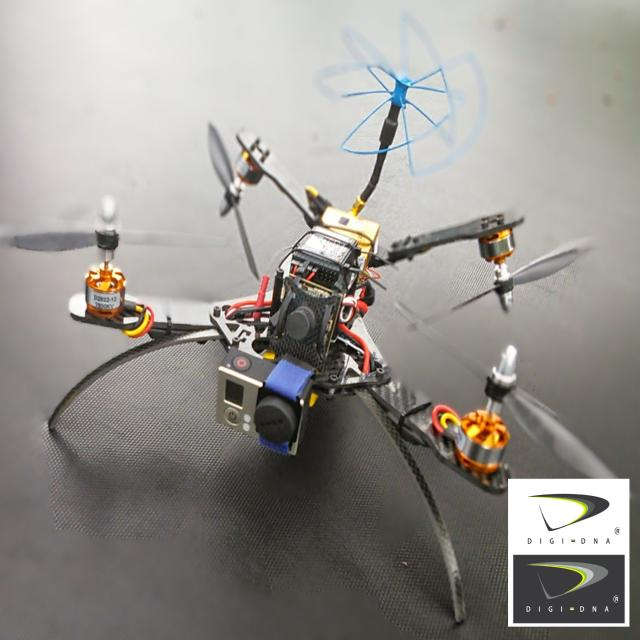drone: (0, 53, 560, 518)
